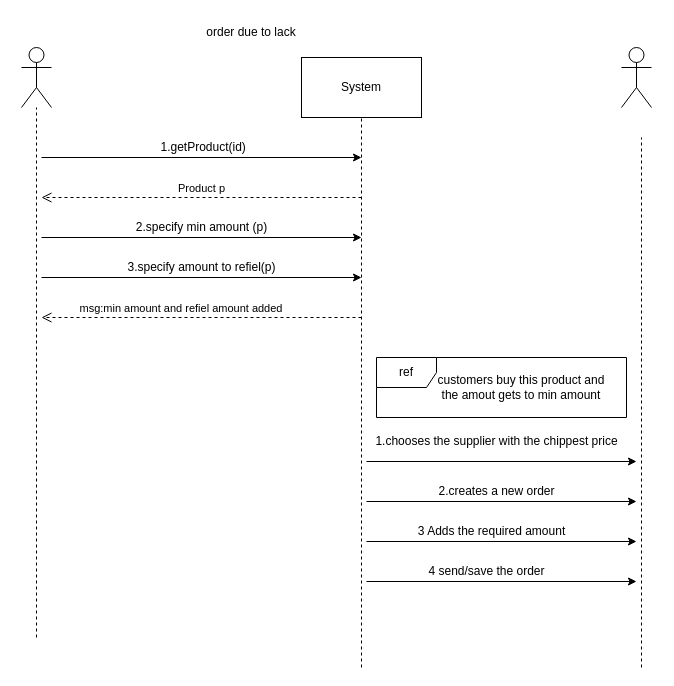
This 674x686 diagram has some shape labels left out. Each missing label, with the centre of its shape:
"supplier" belongs at point (636, 77).
"Worker" belongs at point (36, 77).
